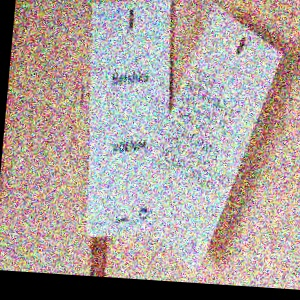bershka: (104, 17, 210, 122)
